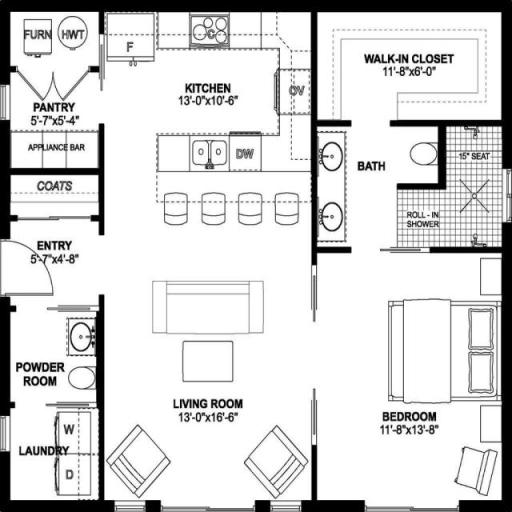bathroom: (334, 130, 510, 262)
bedroom: (327, 266, 498, 512)
closet: (333, 21, 505, 123)
hall: (120, 278, 313, 504)
kitchen: (109, 15, 323, 181), (16, 19, 101, 173)
laundary: (19, 326, 99, 492)
